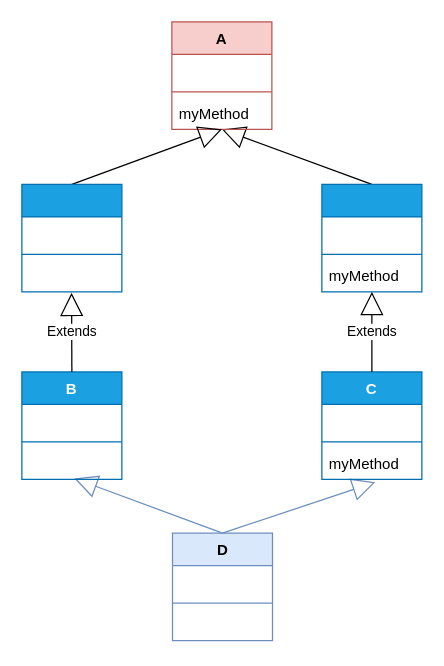
This 444x666 diagram has some shape labels left out. The box of each missing label's shape, as (x1, y1, x2, y2) in pixels:
B1: (21, 183, 122, 292)
C1: (321, 183, 422, 292)
